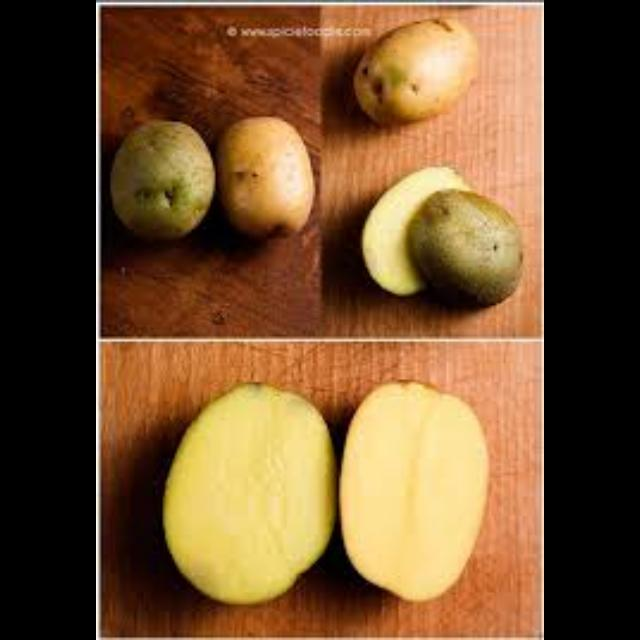Defected potato: (160, 363, 340, 615), (358, 164, 520, 308), (351, 13, 487, 129), (118, 106, 218, 240)
Potato: (329, 364, 499, 614), (216, 111, 316, 226)
